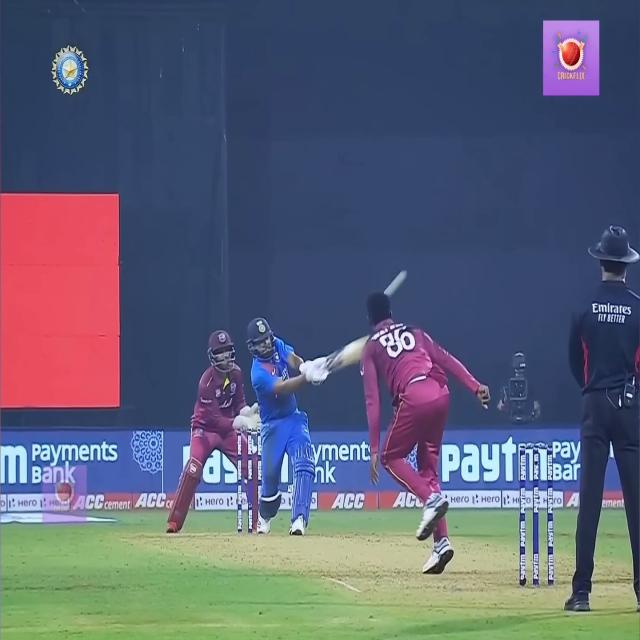partially_visible: (441, 433, 552, 493)
